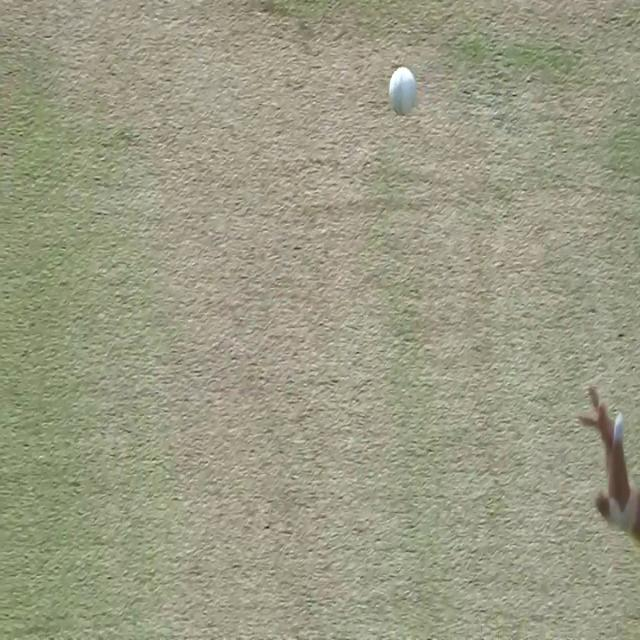ball: (388, 66, 418, 116)
